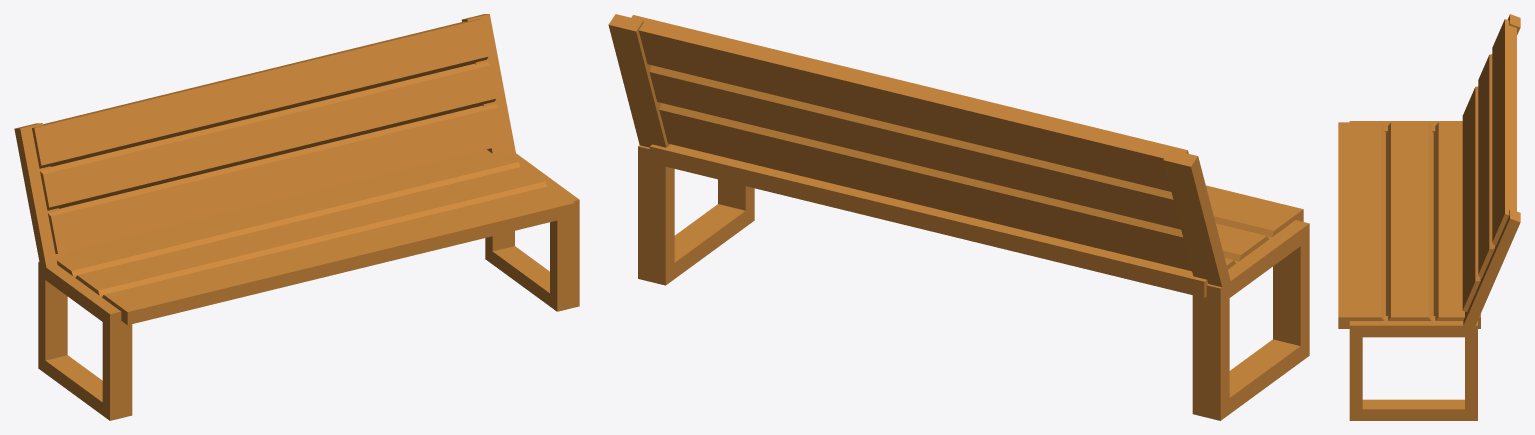
The model's file is bench.fbx.
3 renders of one model, left to right at view 1: azimuth 30°, elevation 25°; view 2: azimuth 150°, elevation 25°; view 3: azimuth 270°, elevation 25°, orthographic. The views are drawn at different scales.
Visible parts, largest first — view 1: bench.1, bench; view 2: bench.1, bench; view 3: bench, bench.1.
Boxes of the visible parts, x1,y1,x2,y2 form: bench.1: (14,14,515,267); bench: (38,149,579,420); bench.1: (608,14,1230,287); bench: (638,144,1309,420); bench: (1338,121,1480,420); bench.1: (1462,14,1520,325).
Size of the model in its own units: 210 by 96.87 by 79.01.
